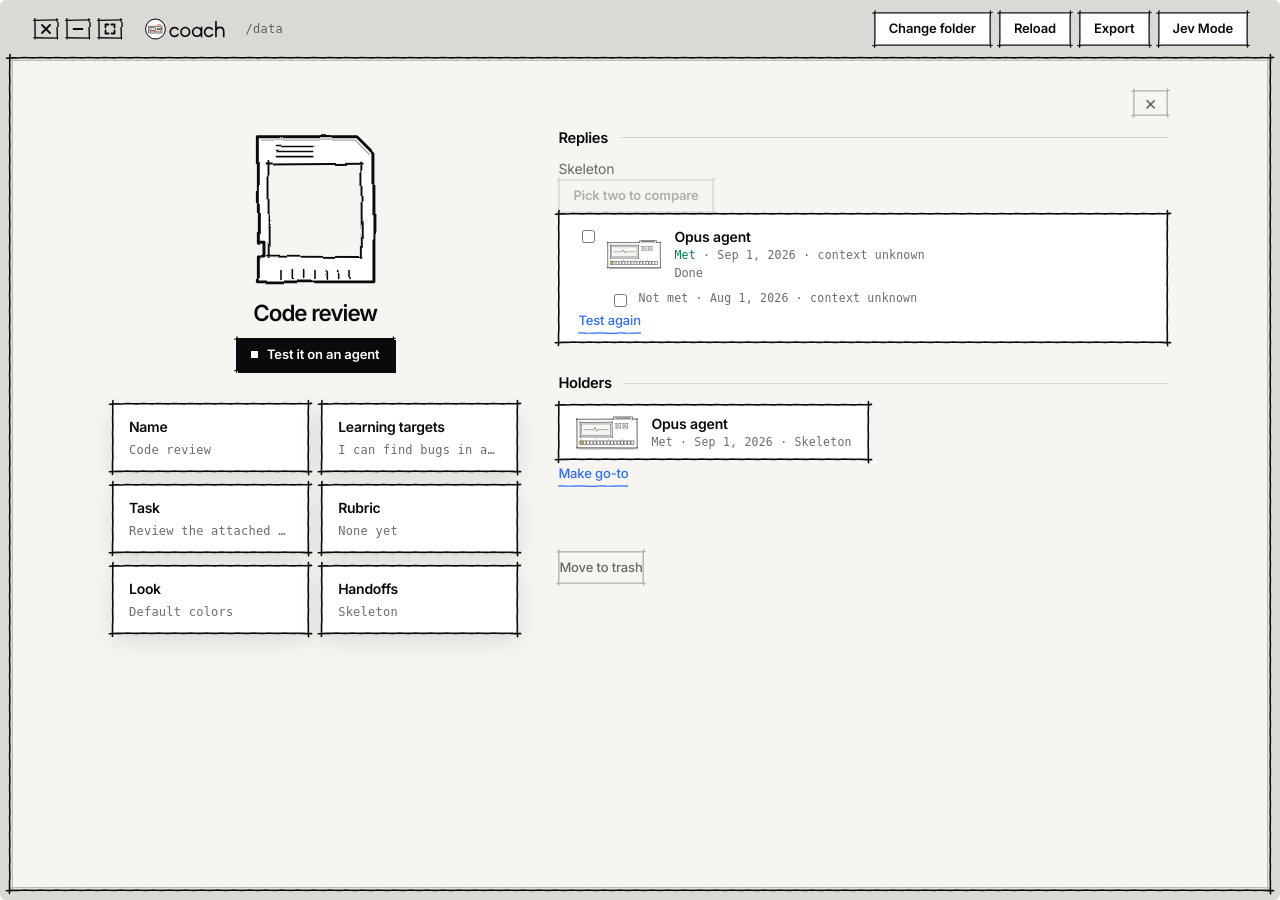
Scenario: BadgeDetail › an agent's older take sits under its latest one and opens as its own view
Check: the element with class "take-meta" shows "Met", box [674,248,696,262]
Check: the list item "Not met · Aug 1, 2026 · context unknown" is shown, box [610,286,1151,312]
Click the button with class "take-head" that starts with "Not met".
click(895, 299)  # box [638,286,1151,312]
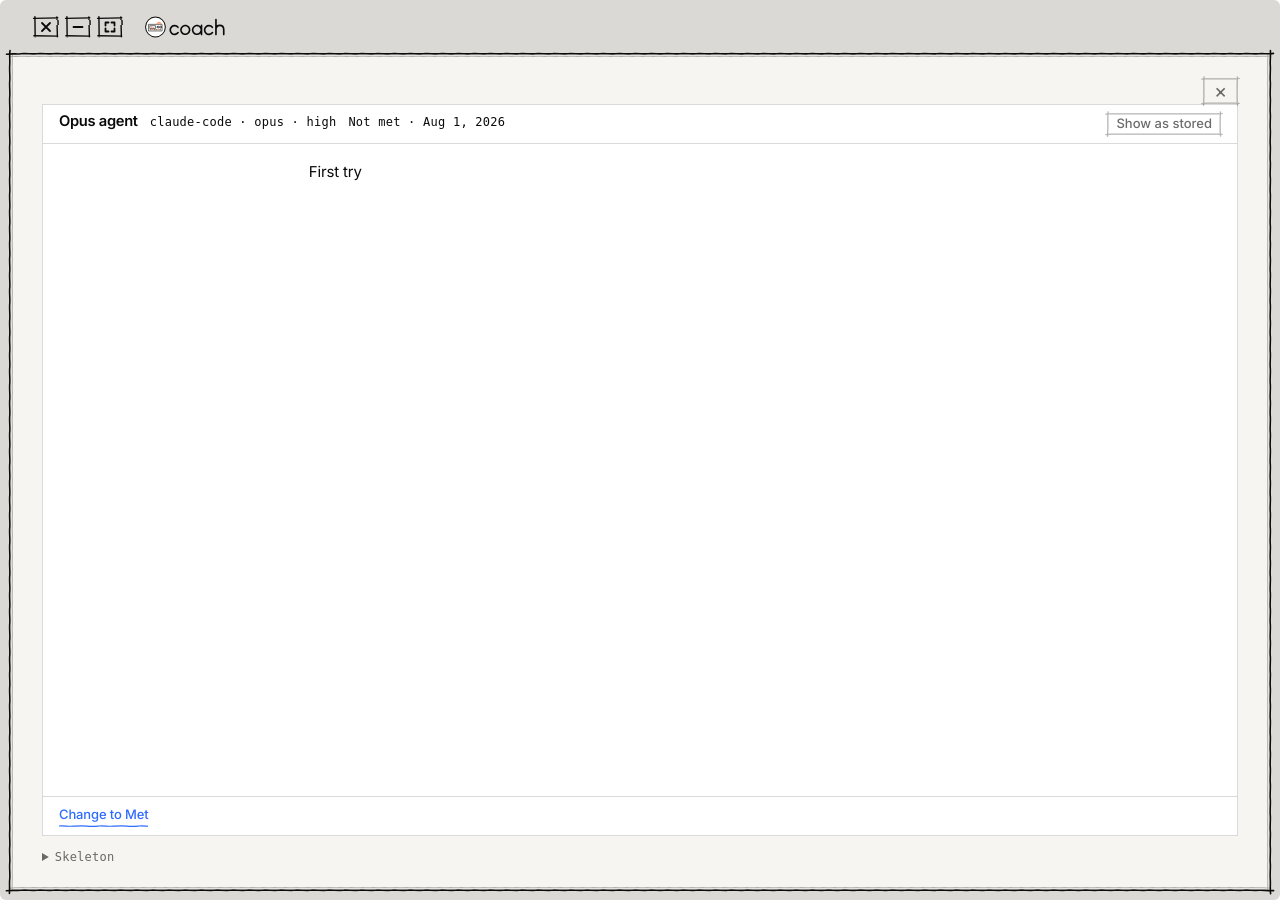
Check: the heading "Opus agent" is shown, box [59,113,138,130]
Check: the text "First try" is shown, box [309,162,362,180]
Check: the list "Parts" is gone
